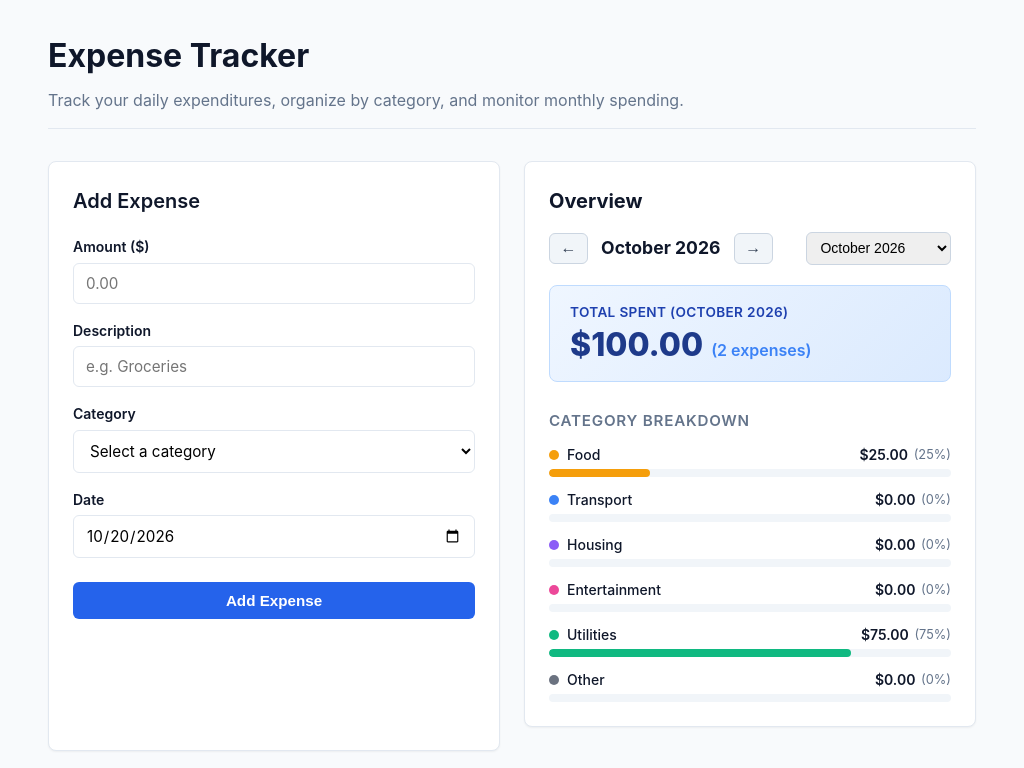
Scenario: Issue #3 - UI, Expense Management & LocalStorage Persistence › Feature 4: Monthly Dashboard Navigation & Category Breakdown › allows navigating between months and displays accurate total spending and category breakdown percentages
Check: the text with test id "monthly-total-value" reads "$100.00", box [570,325,703,364]
Check: the text "$75.00" is shown, box [861,624,909,645]
# Navigate to Previous Month (September 2026)
What coordinates should you click on to do the following:
click the button named "previous month"
I would click on:
 (568, 248)
Its box is [549,233,588,264].
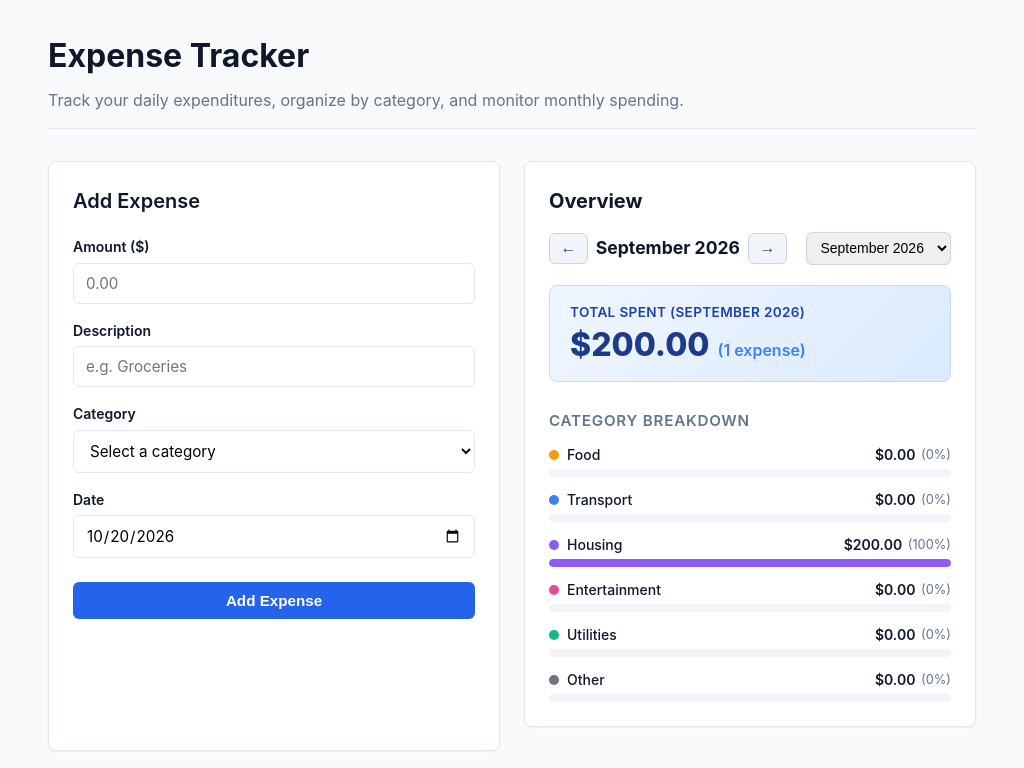
Check: the text with test id "monthly-total-value" reads "$200.00", box [570,325,709,364]
Check: the text "$200.00" next to "100%" is shown, box [844,536,902,553]
Check: the text "(100%)" is shown, box [908,535,951,554]
